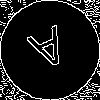A: (25, 25, 75, 80)
